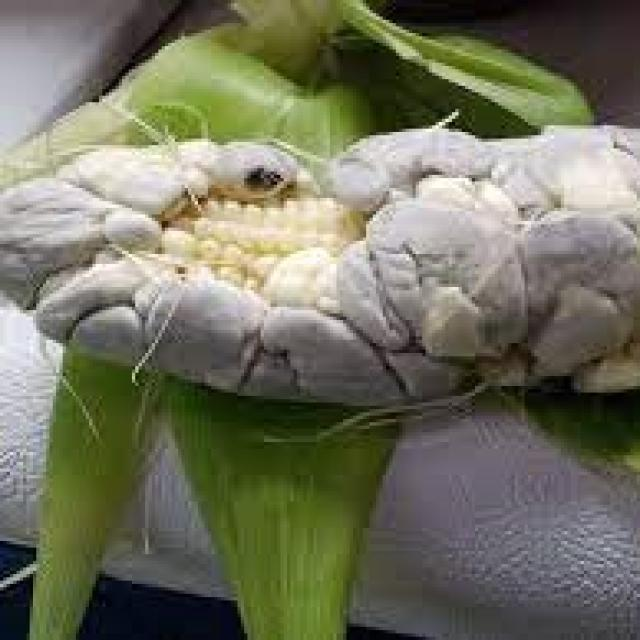Leaf_Scald: (30, 66, 640, 459)
